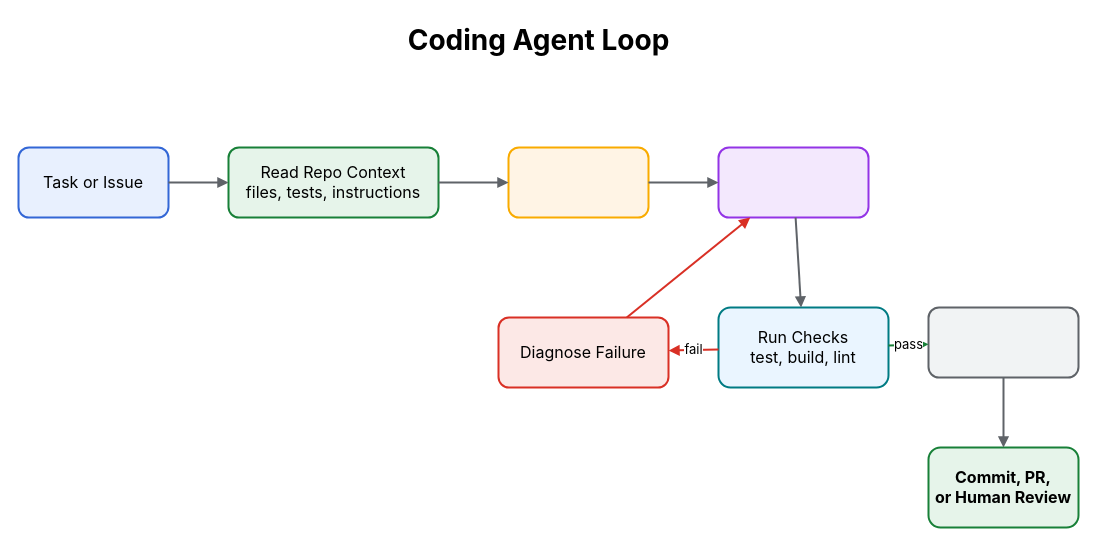
This 1096x545 diagram has some shape labels left out. The shapes that lost their labels are listed below. From the top down, each one's box as (x1, y1, x2, y2) in pixels, then its label:
(507, 146, 649, 218): Plan
(717, 146, 869, 218): Edit Files
(927, 306, 1079, 378): Review Diff
